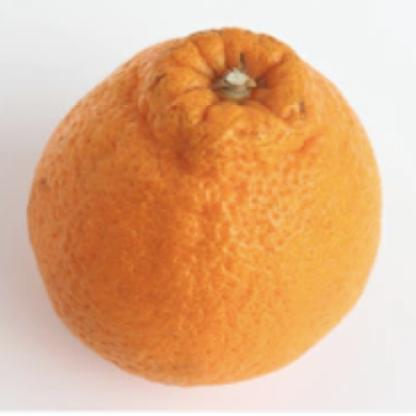fresh: (29, 28, 384, 389)
